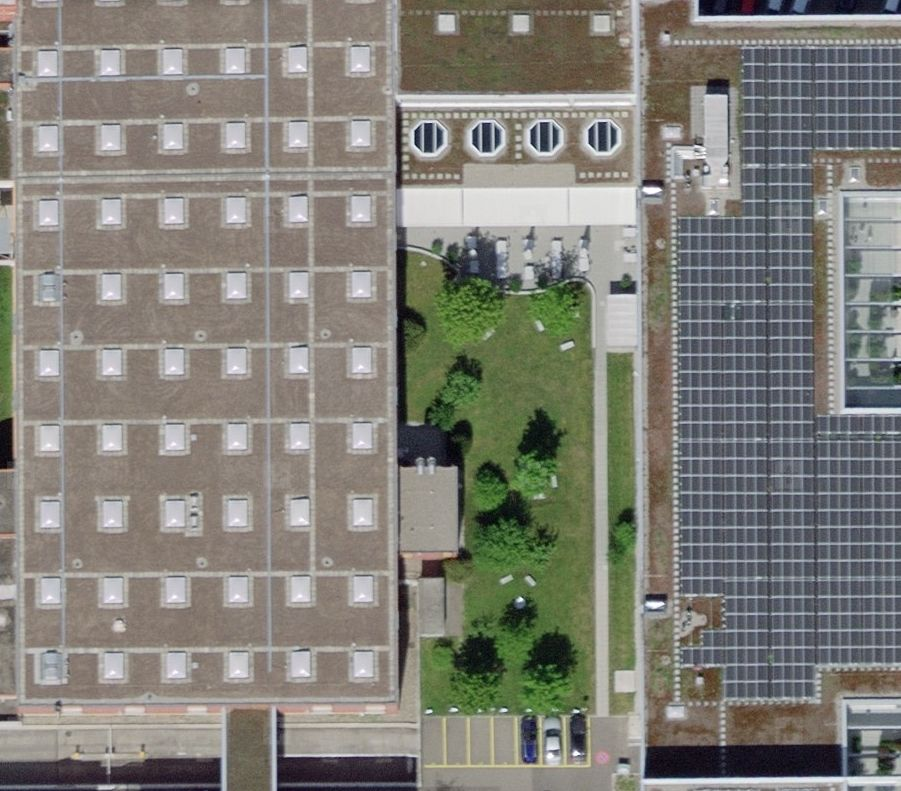solar: (679, 46, 901, 692)
